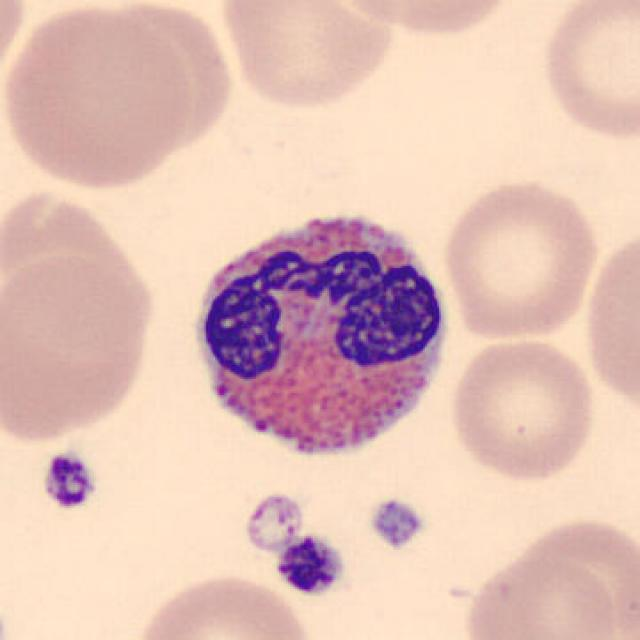Eosinophil: (180, 194, 460, 476)
Platelets: (272, 532, 347, 598), (240, 488, 304, 556), (39, 450, 100, 513), (366, 495, 427, 552)
RBC: (0, 2, 196, 194), (0, 242, 160, 446), (439, 174, 603, 344), (445, 331, 599, 485), (92, 2, 238, 155), (215, 0, 398, 115), (507, 513, 640, 640), (459, 541, 622, 640), (535, 0, 640, 146), (128, 567, 322, 640), (582, 220, 638, 422), (325, 0, 519, 41), (0, 0, 34, 108)
